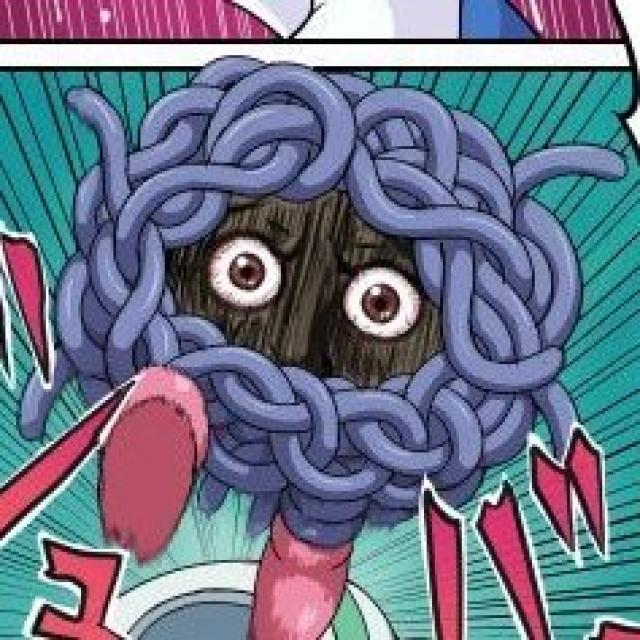Tangela: (85, 78, 490, 562)
